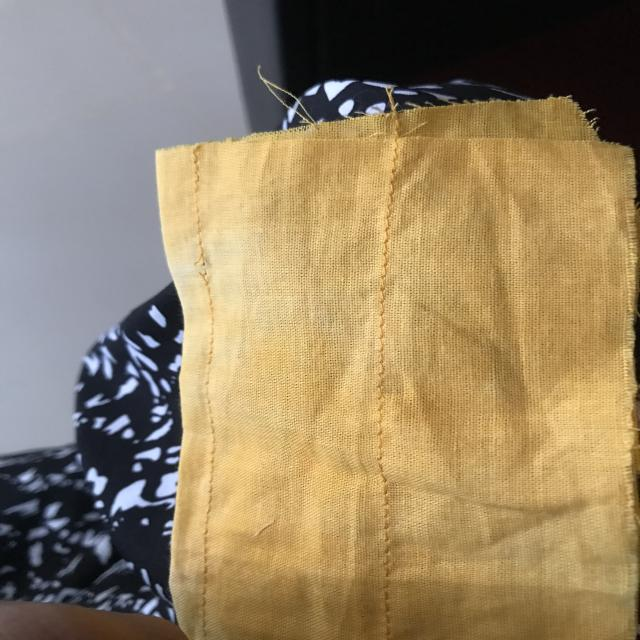broken: (189, 248, 228, 292)
